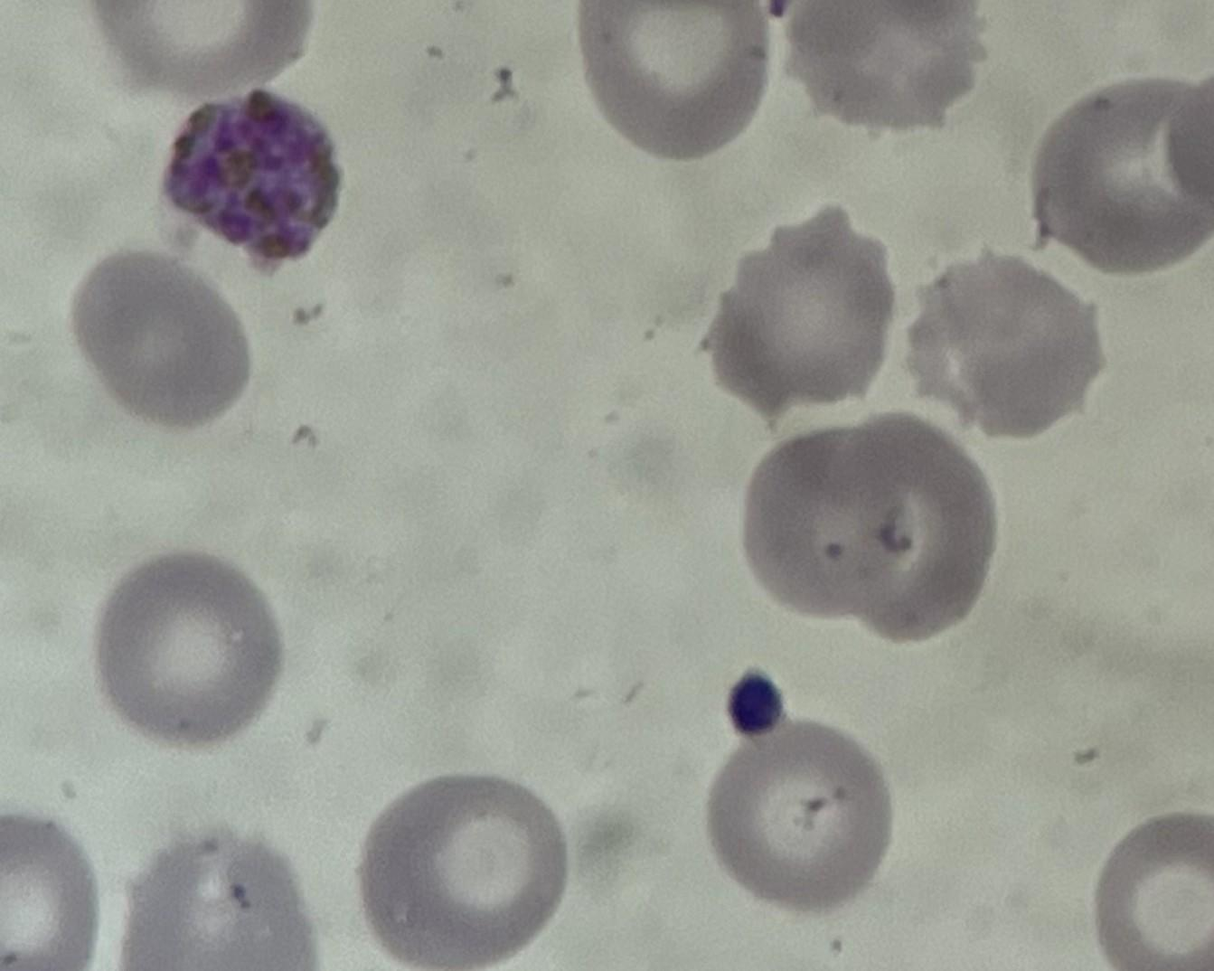Infected: (163, 89, 340, 263)
Uninfected: (741, 414, 995, 639), (703, 202, 899, 418), (356, 775, 564, 964), (90, 555, 280, 748), (908, 249, 1101, 436), (1032, 74, 1211, 271), (705, 721, 889, 908), (71, 251, 253, 429), (580, 2, 769, 162)
